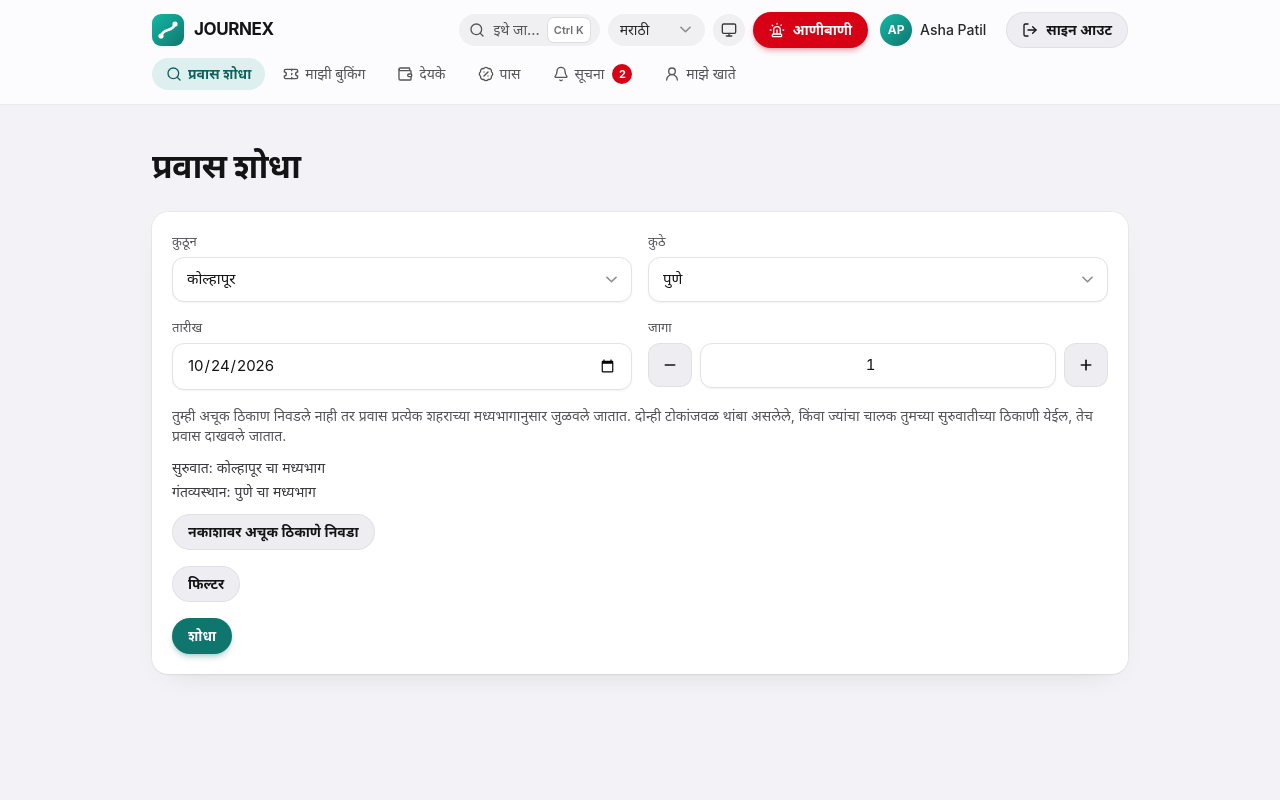
Test: the app in another language › translates validation messages and town names in Marathi
Expected: the heading "प्रवास शोधा" is shown, [152,145,300,186]
Replace the text in the number field labelled "जागा" with "0": (878, 365) [700,343,1056,388]
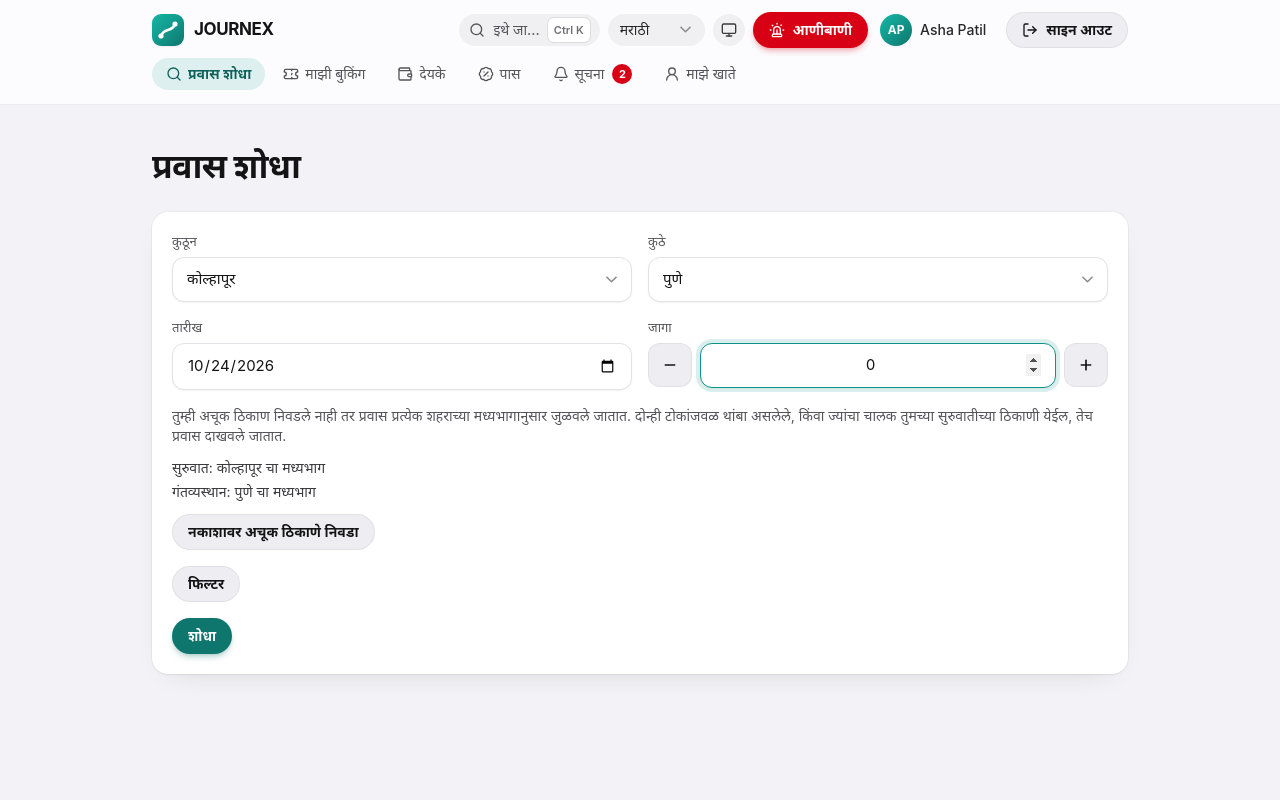
Click the button "शोधा": (202, 636) [172,618,232,654]
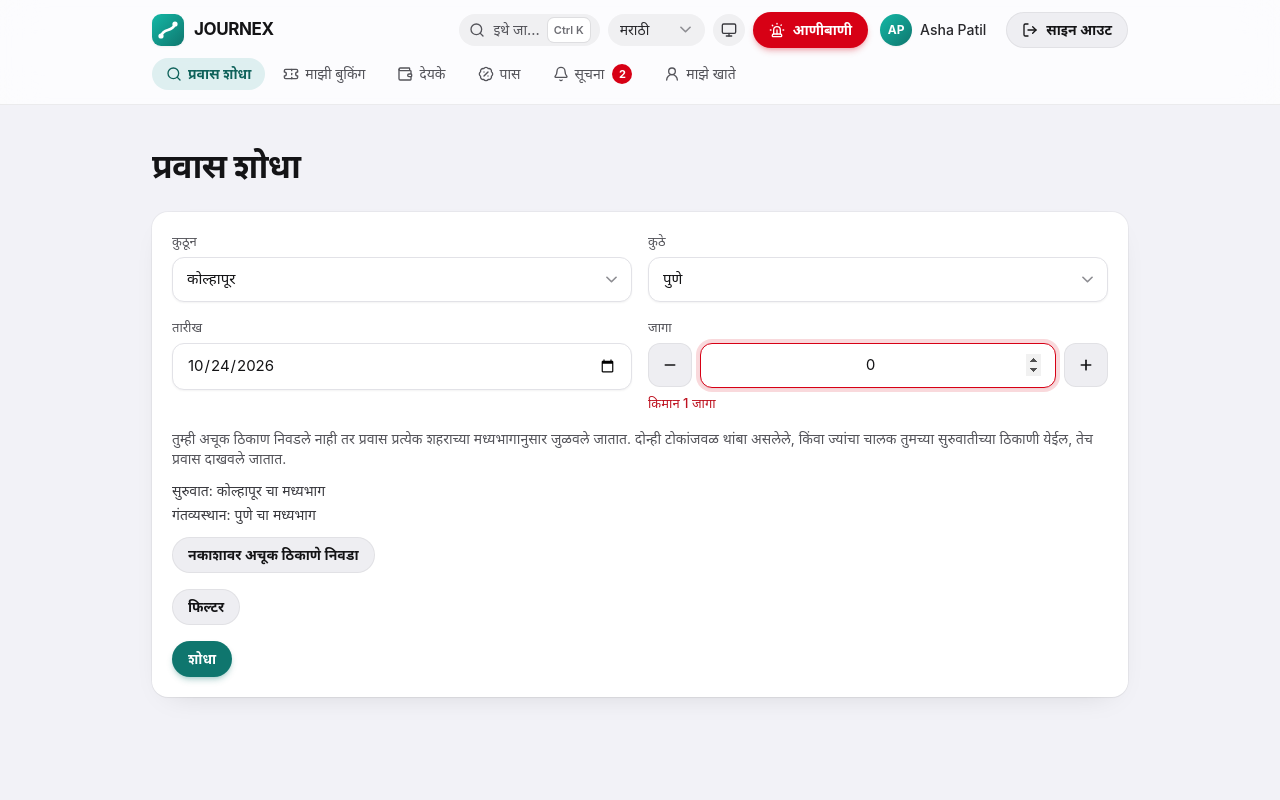
Now the text "किमान 1 जागा" is shown, box [648,394,716,410]
